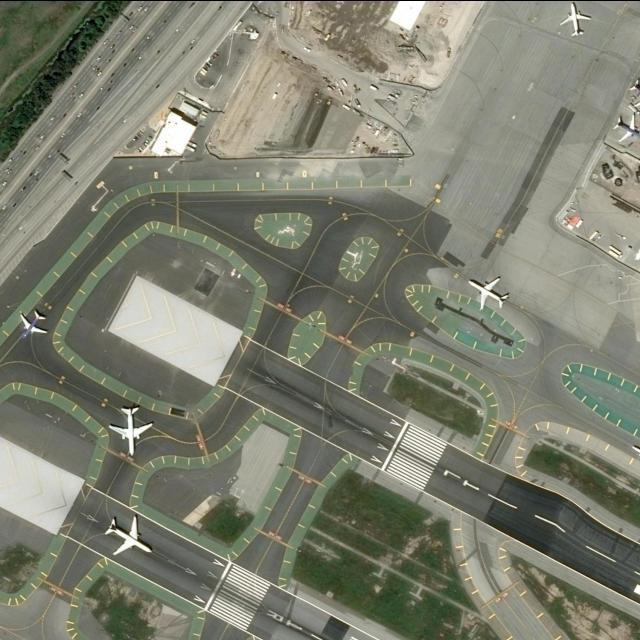Aircraft: (109, 402, 157, 454), (103, 515, 156, 555), (469, 274, 511, 308), (17, 310, 51, 338), (564, 3, 592, 35), (616, 111, 640, 142), (629, 78, 640, 103)
